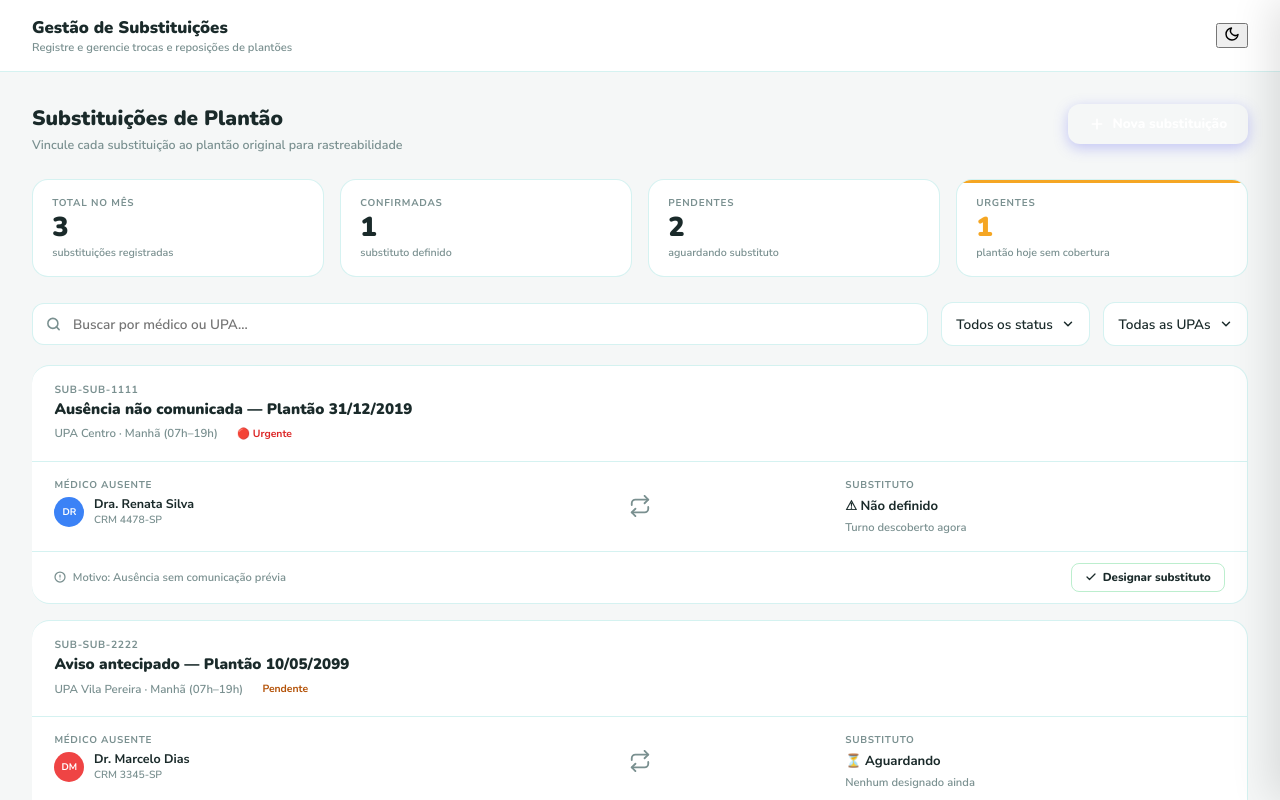
Scenario: <AdminSubstituicoes /> › exibe toast de sucesso após criar substituição
Click the button "Nova substituição". click: (1158, 124)
box: x1=1068 y1=104 x2=1248 y2=144
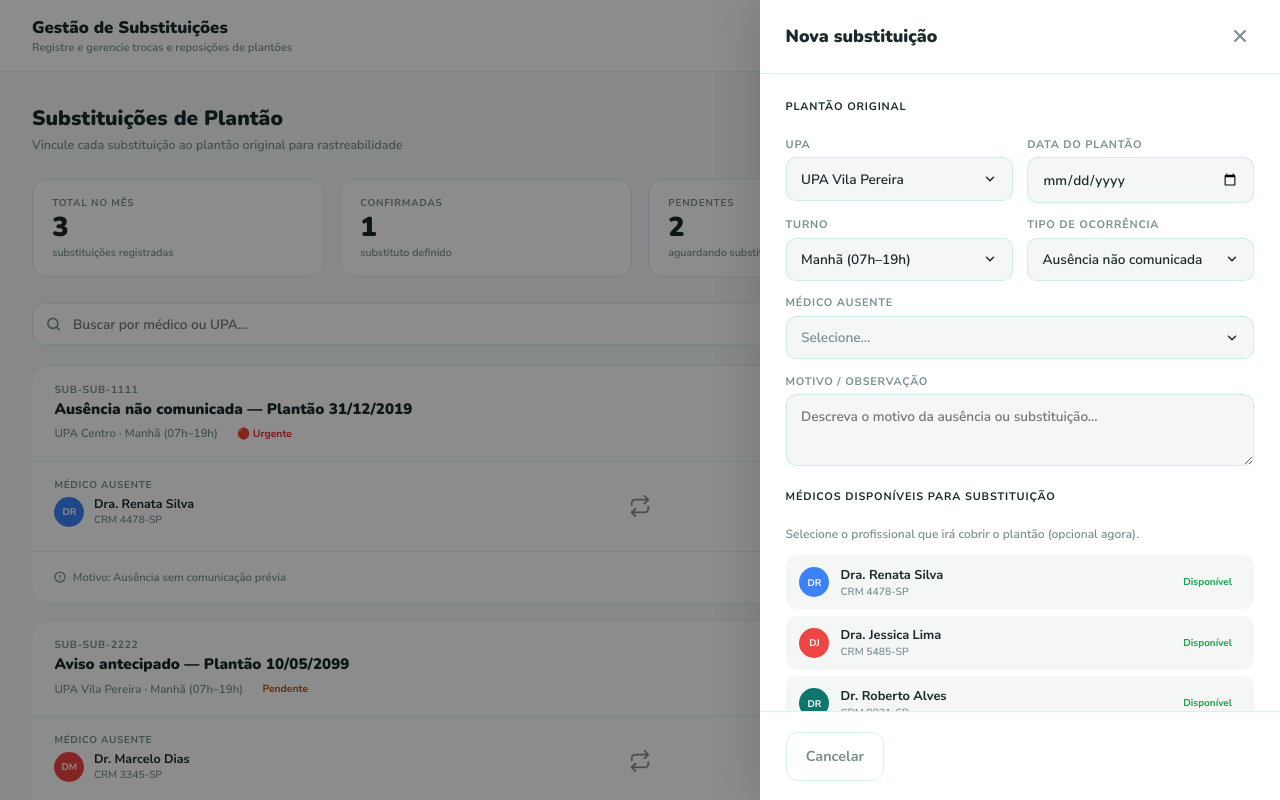
Type "2099-06-01" into the date field. click: (1141, 180)
box: x1=1027 y1=157 x2=1254 y2=203
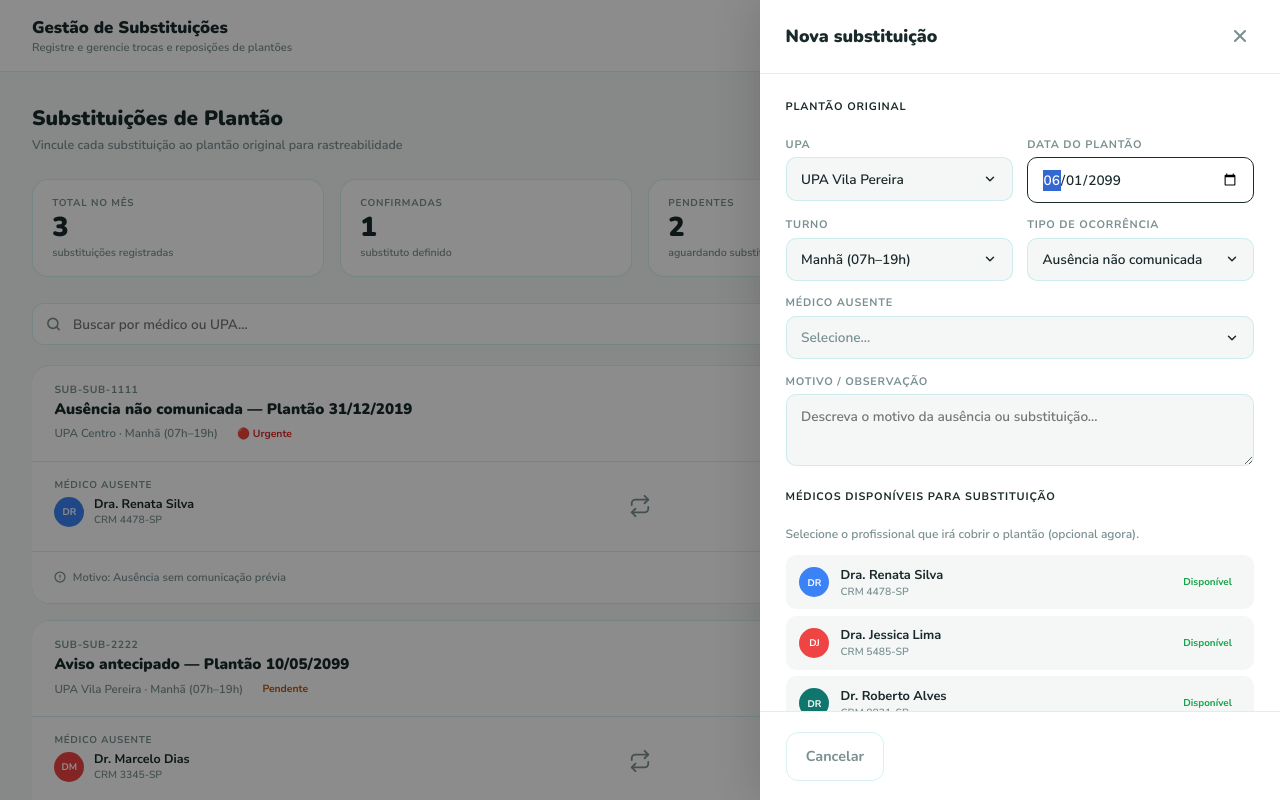
Click the button with class "subst-cselect-btn" showing "Selecione...". click: (836, 338)
box: x1=786 y1=316 x2=1254 y2=360
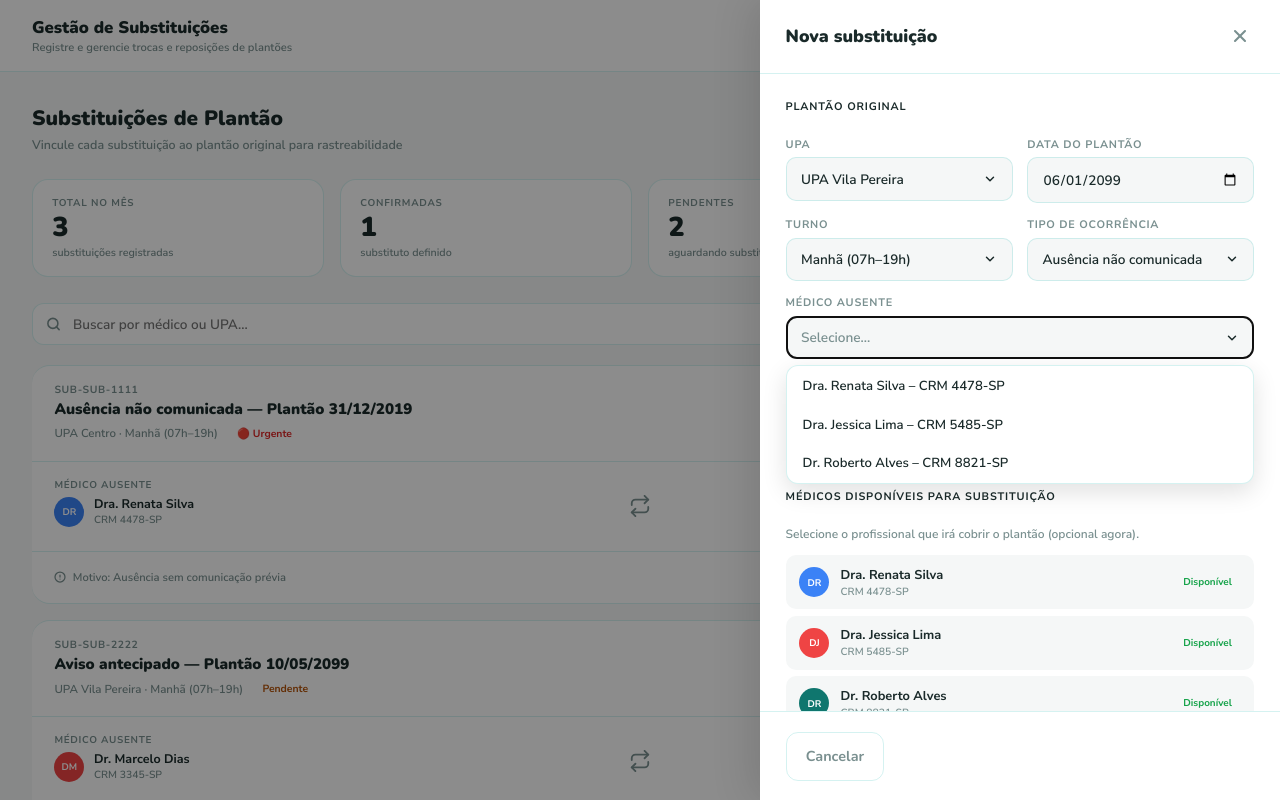
Expected: the element with class "subst-cselect-dropdown" is shown, x1=786 y1=366 x2=1254 y2=484
Click the text with class "subst-cselect-option" that starts with "Dra. Renata Silva – CRM 4478-SP". click: (904, 386)
box: x1=803 y1=377 x2=1005 y2=395
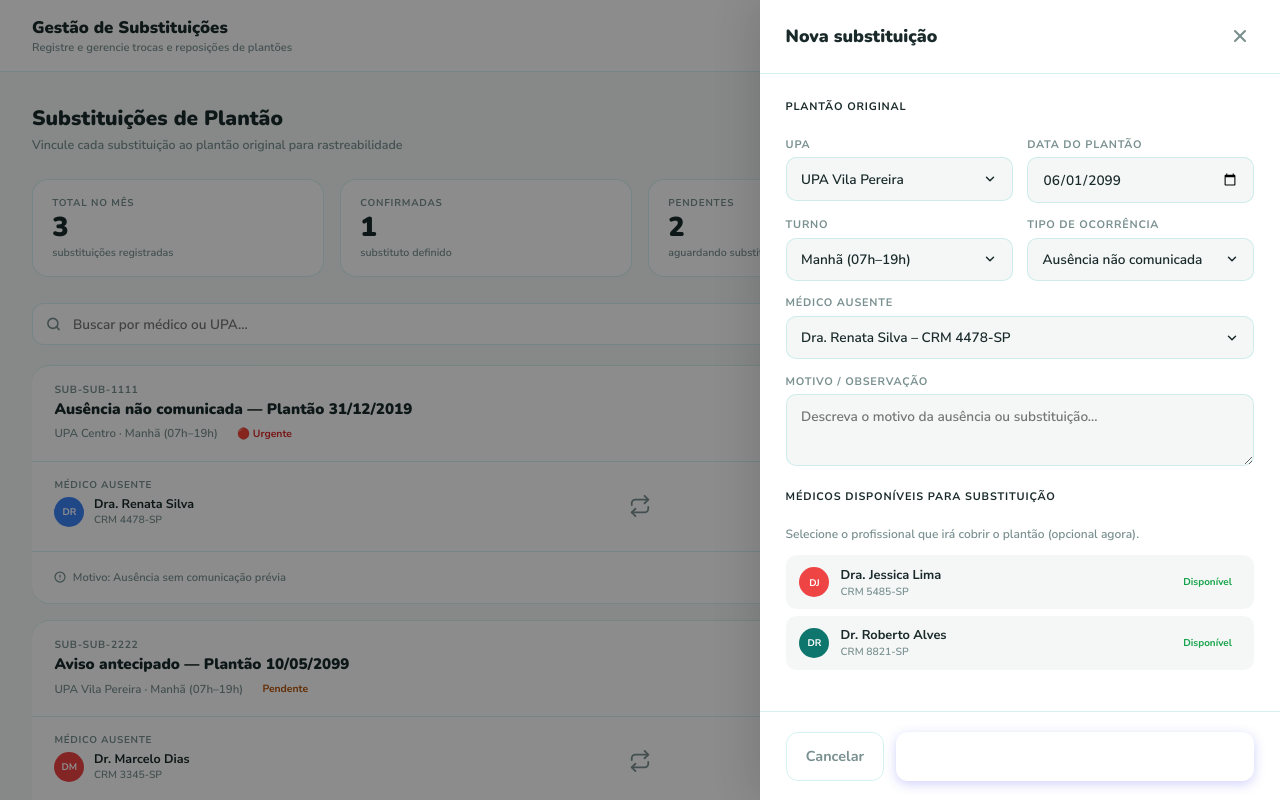
Click the button "Confirmar substituição". click: (1075, 756)
box: x1=896 y1=732 x2=1254 y2=781
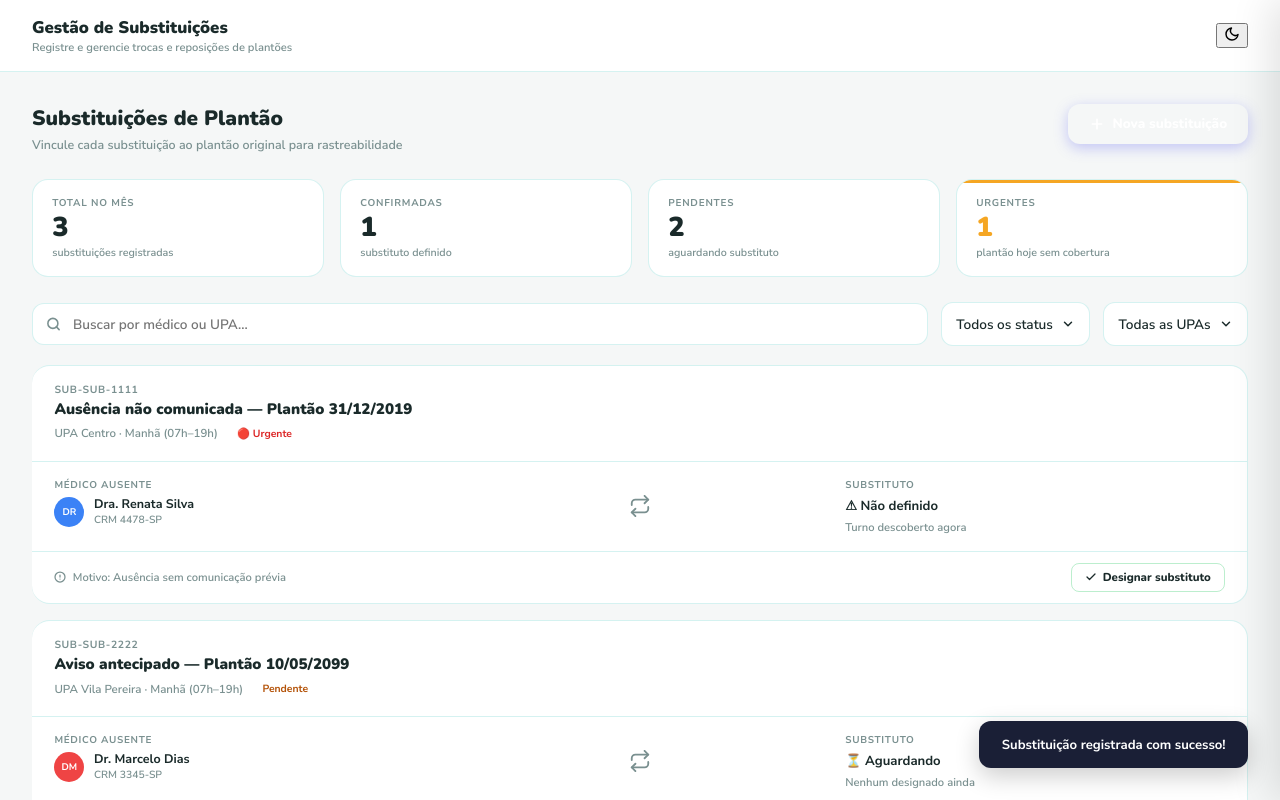
Expected: the text with class "subst-toast" shows "Substituição registrada com sucesso", x1=1002 y1=736 x2=1226 y2=754
